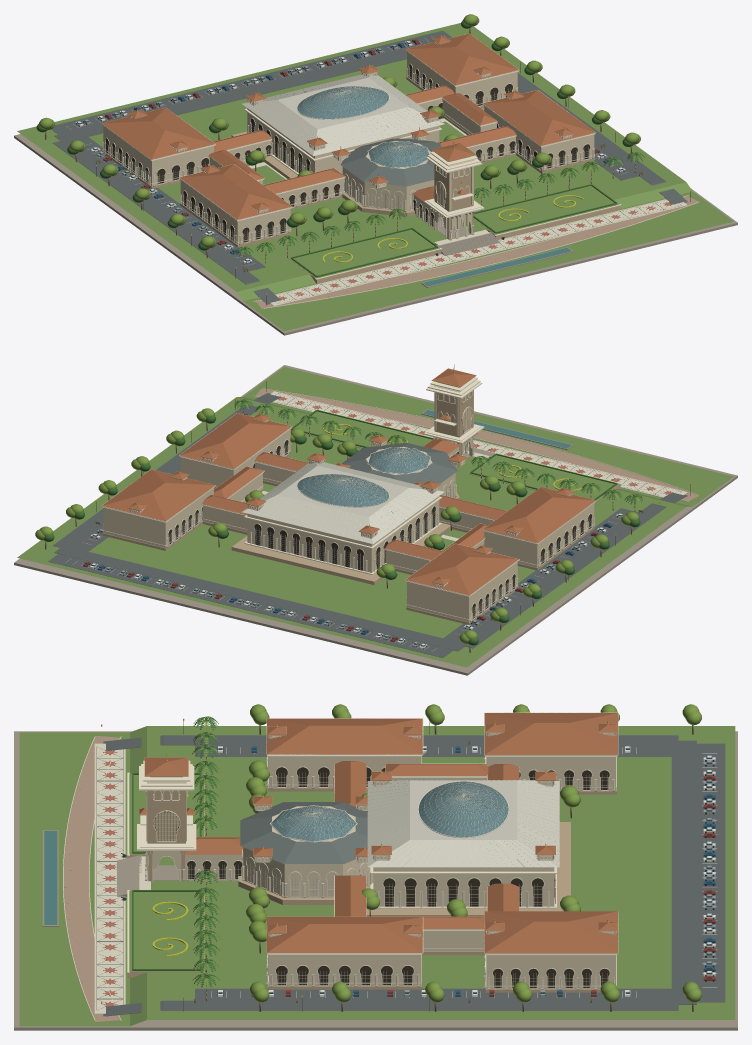
File: Bangunan_Sultan_Ismail_Kota_Iskandar.glb
The picture shows the model from 3 angles, top to bottom: view 1: azimuth 30°, elevation 25°; view 2: azimuth 150°, elevation 25°; view 3: azimuth 270°, elevation 25°; orthographic projection. The views are drawn at different scales.
Parts seen in each view (by area): view 1: BSI_TerracedGround, BSI_MainHall_PyramidalRoof, BSI_ParterreLawns, BSI_SiteBase, BSI_StarPavingBase, BSI_PerimeterDrive, BSI_CurvedCeremonialDrive, BSI_RearParkingApron, BSI_East_FrontWing_Roof, BSI_West_FrontWing_Roof, BSI_East_RearWing_Roof, BSI_West_RearWing_Roof (+39 smaller); view 2: BSI_TerracedGround, BSI_SiteBase, BSI_MainHall_PyramidalRoof, BSI_ParterreLawns, BSI_RearDrive, BSI_RearParkingApron, BSI_PerimeterDrive, BSI_MainHall, BSI_West_FrontWing_Roof, BSI_East_FrontWing_Roof, BSI_East_RearWing_Roof, BSI_West_RearWing_Roof (+38 smaller); view 3: BSI_TerracedGround, BSI_MainHall_PyramidalRoof, BSI_SiteBase, BSI_PerimeterDrive, BSI_StarPavingBase, BSI_ParterreLawns, BSI_RearDrive, BSI_PerimeterParkingAprons, BSI_CurvedCeremonialDrive, BSI_RearParkingApron, BSI_West_FrontWing_Roof, BSI_East_RearWing_Roof (+62 smaller).
Boxes of the visible parts, x1=… form: BSI_TerracedGround: x1=17, y1=23, x2=733, y2=331; BSI_MainHall_PyramidalRoof: x1=242, y1=74, x2=444, y2=156; BSI_ParterreLawns: x1=289, y1=184, x2=618, y2=278; BSI_SiteBase: x1=14, y1=134, x2=737, y2=335; BSI_StarPavingBase: x1=270, y1=199, x2=687, y2=305; BSI_PerimeterDrive: x1=53, y1=73, x2=665, y2=283; BSI_CurvedCeremonialDrive: x1=255, y1=196, x2=699, y2=308; BSI_RearParkingApron: x1=51, y1=30, x2=452, y2=134; BSI_East_FrontWing_Roof: x1=483, y1=90, x2=595, y2=145; BSI_West_FrontWing_Roof: x1=179, y1=164, x2=291, y2=219; BSI_East_RearWing_Roof: x1=405, y1=33, x2=518, y2=85; BSI_West_RearWing_Roof: x1=102, y1=107, x2=214, y2=159; BSI_TerracedGround: x1=17, y1=367, x2=733, y2=667; BSI_SiteBase: x1=14, y1=365, x2=737, y2=675; BSI_MainHall_PyramidalRoof: x1=242, y1=462, x2=444, y2=543; BSI_ParterreLawns: x1=290, y1=411, x2=619, y2=500; BSI_RearDrive: x1=54, y1=547, x2=465, y2=651; BSI_RearParkingApron: x1=48, y1=554, x2=453, y2=657; BSI_PerimeterDrive: x1=52, y1=405, x2=665, y2=648; BSI_MainHall: x1=247, y1=496, x2=439, y2=572; BSI_West_FrontWing_Roof: x1=483, y1=487, x2=595, y2=542; BSI_East_FrontWing_Roof: x1=179, y1=413, x2=291, y2=468; BSI_East_RearWing_Roof: x1=102, y1=469, x2=215, y2=521; BSI_West_RearWing_Roof: x1=406, y1=543, x2=518, y2=595; BSI_TerracedGround: x1=19, y1=726, x2=735, y2=1026; BSI_MainHall_PyramidalRoof: x1=367, y1=780, x2=559, y2=867; BSI_SiteBase: x1=14, y1=731, x2=737, y2=1030; BSI_PerimeterDrive: x1=164, y1=735, x2=678, y2=1010; BSI_StarPavingBase: x1=94, y1=743, x2=125, y2=1013; BSI_ParterreLawns: x1=129, y1=773, x2=204, y2=971; BSI_RearDrive: x1=671, y1=740, x2=696, y2=1004; BSI_PerimeterParkingAprons: x1=195, y1=745, x2=671, y2=1000; BSI_CurvedCeremonialDrive: x1=63, y1=735, x2=120, y2=1022; BSI_RearParkingApron: x1=697, y1=743, x2=725, y2=1002; BSI_West_FrontWing_Roof: x1=267, y1=718, x2=422, y2=754; BSI_East_RearWing_Roof: x1=484, y1=911, x2=617, y2=953.
Bounding box in the file's own units: 248 × 52.25 × 256.
